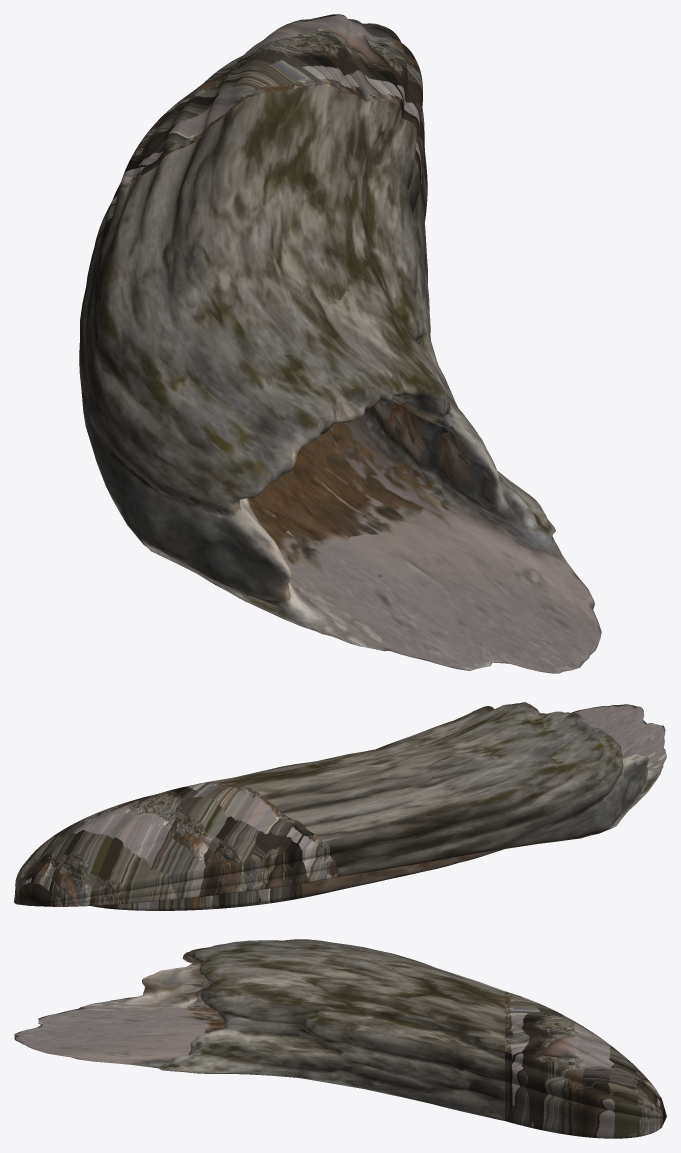
3 renders of one model, top to bottom at view 1: azimuth 30°, elevation 25°; view 2: azimuth 150°, elevation 25°; view 3: azimuth 270°, elevation 25°, orthographic. The views are drawn at different scales.
Visible parts, largest first — view 1: Continuous cave shell; view 2: Continuous cave shell; view 3: Continuous cave shell.
Boxes of the visible parts, x1,y1,x2,y2 form: Continuous cave shell: [79, 14, 601, 673]; Continuous cave shell: [14, 702, 666, 910]; Continuous cave shell: [14, 939, 666, 1138].
Bounding box in the file's own units: 31.98 × 8.4 × 56.81.
1 material, 1 textured.
